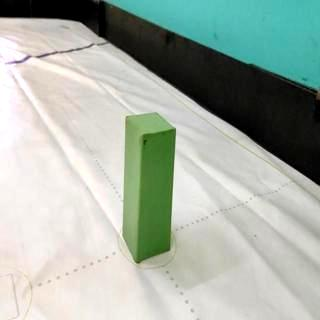greenbox: (121, 110, 178, 264)
